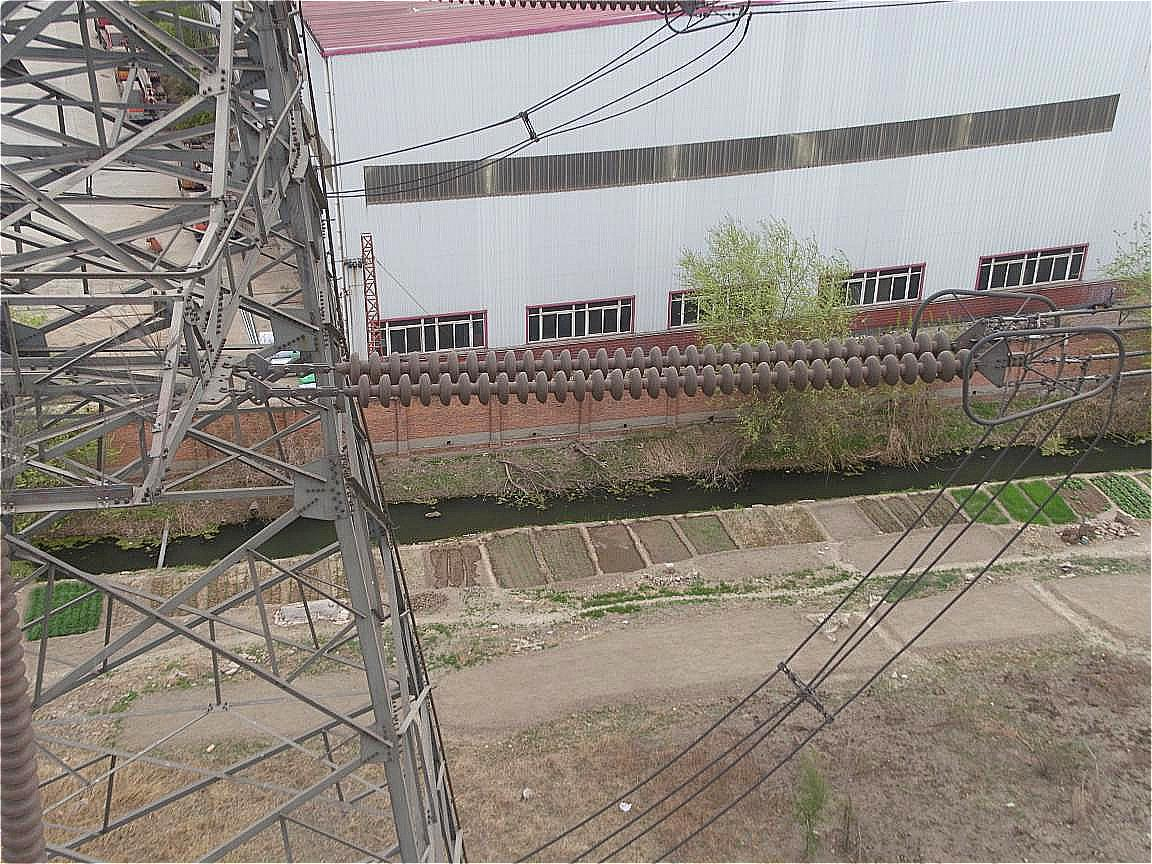insultor1: (349, 327, 972, 409)
